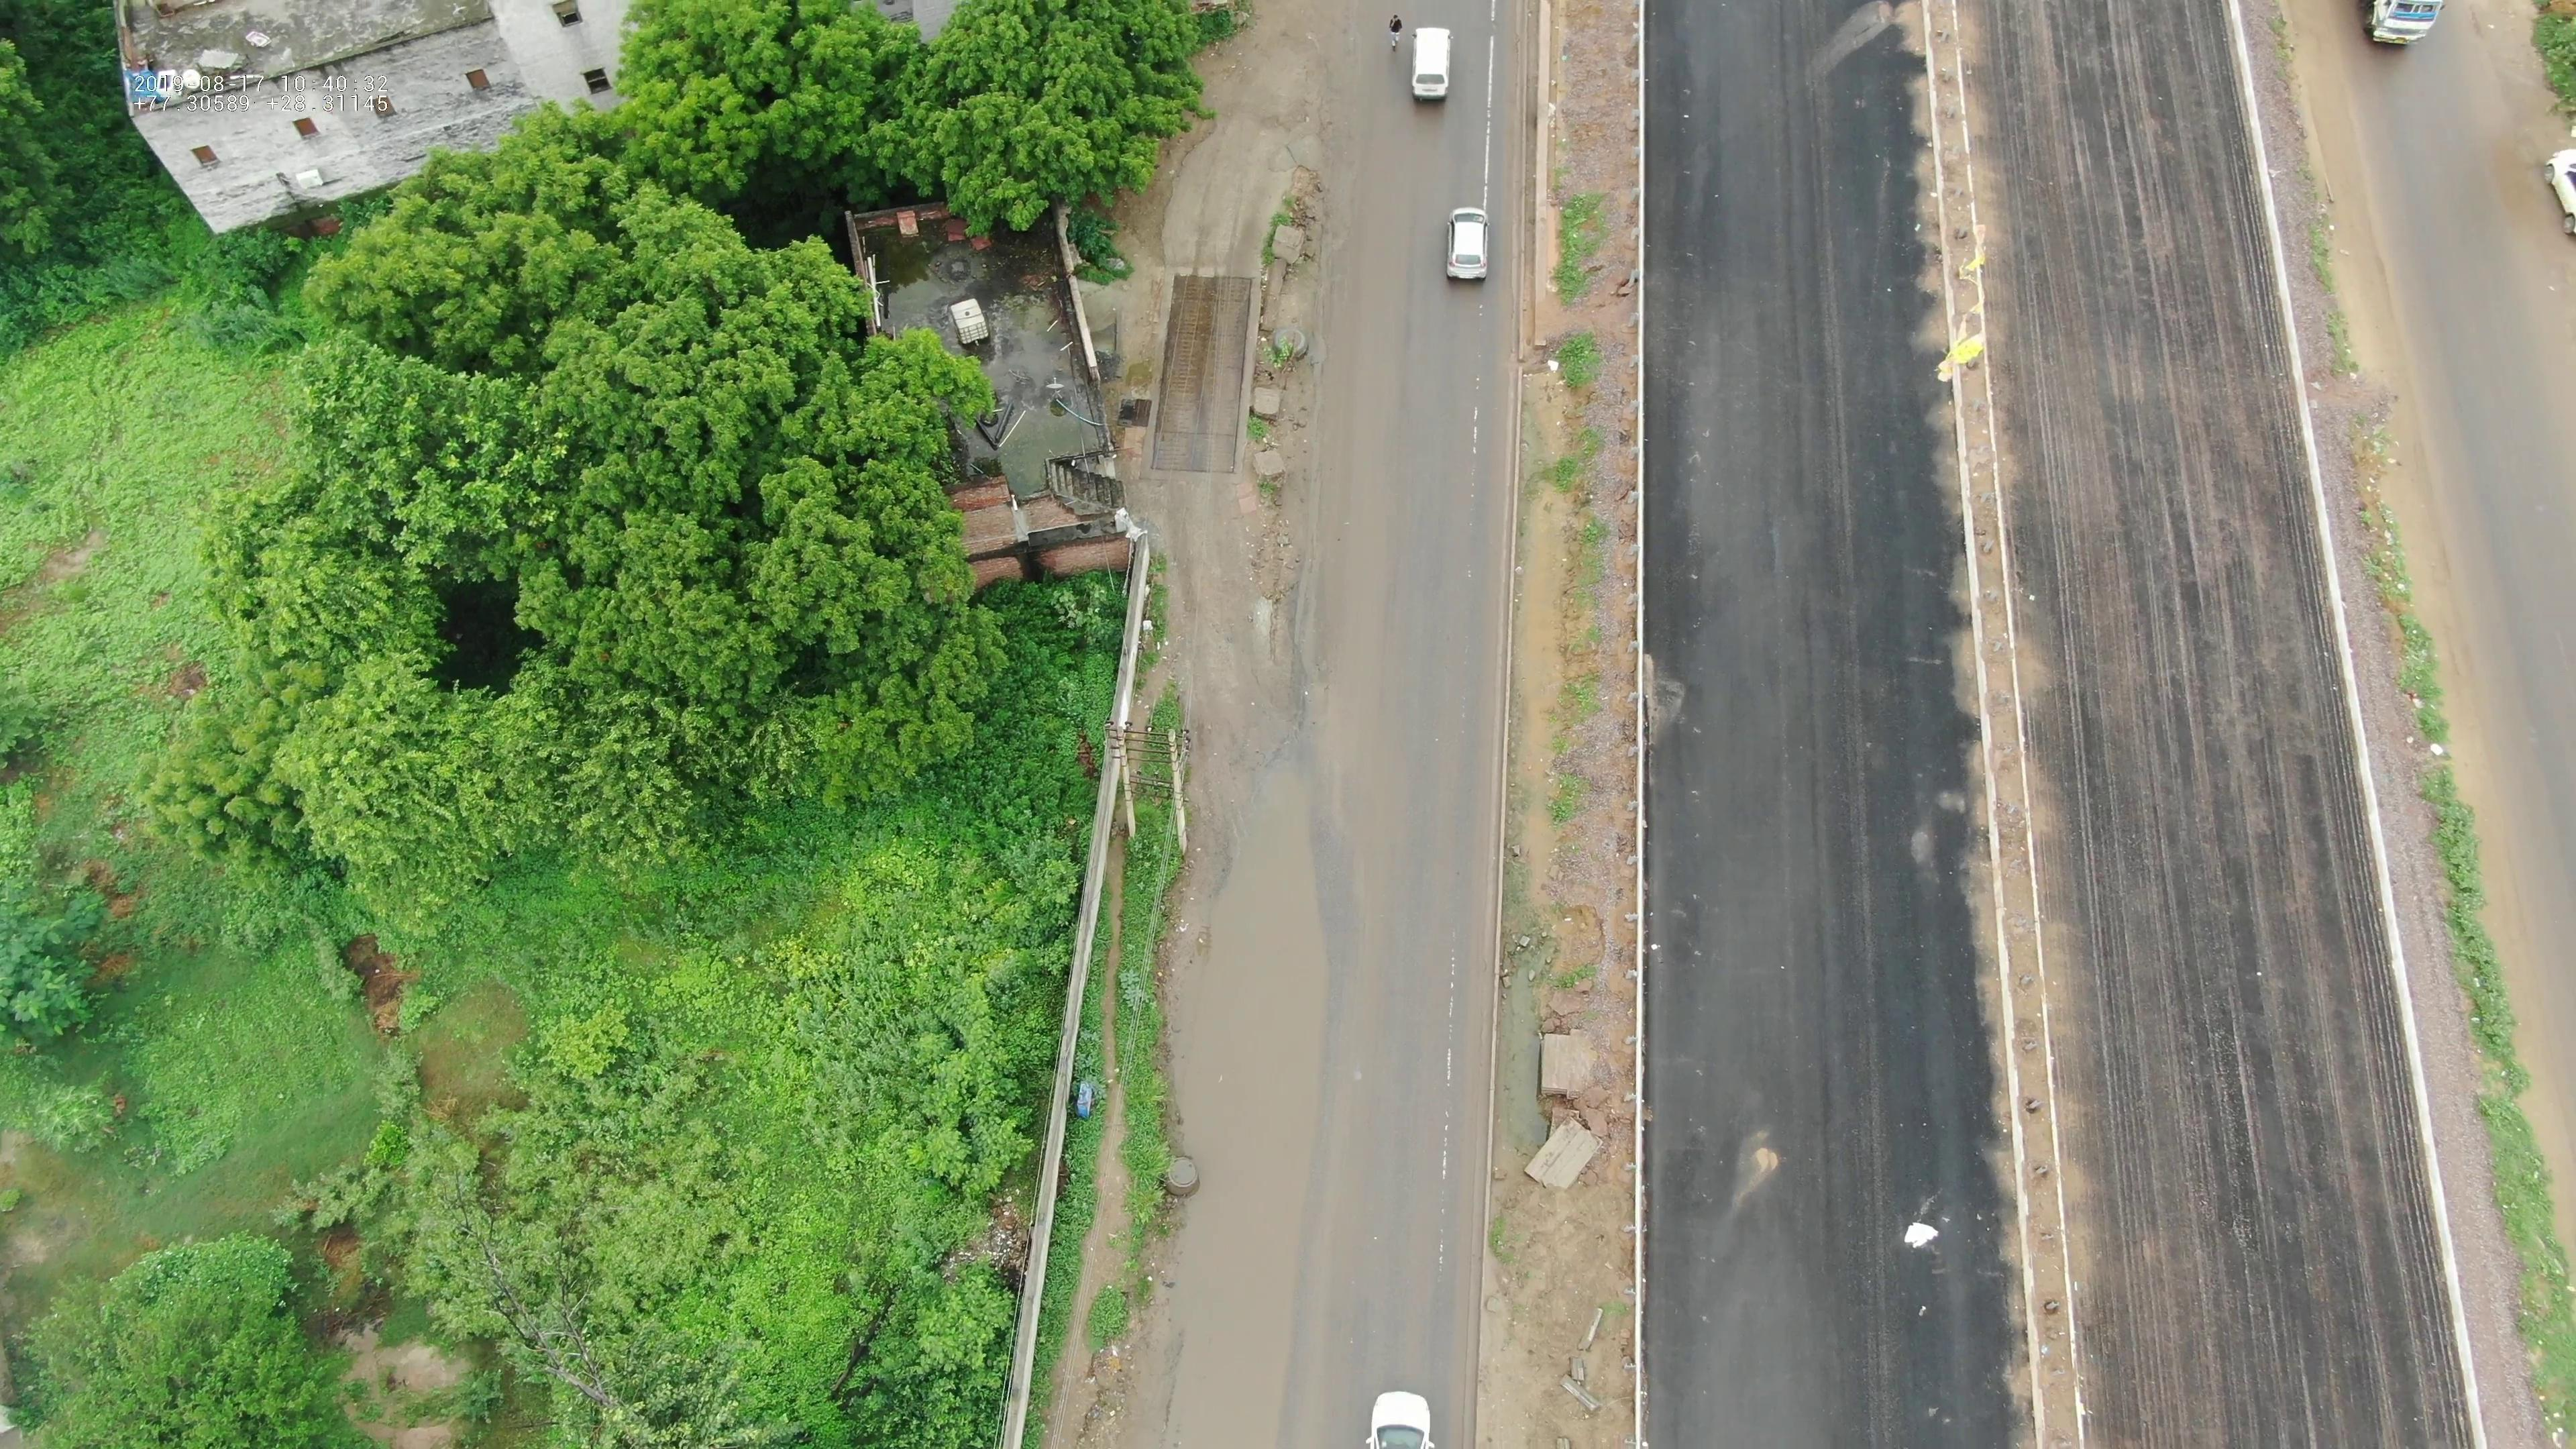Waterlogging: (1125, 745, 1359, 1422)
